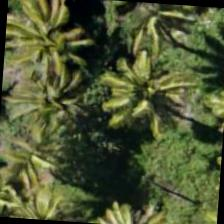Kelapa_Sawit: (99, 50, 195, 146), (0, 54, 92, 151), (2, 0, 98, 83), (0, 110, 75, 206), (111, 0, 205, 60)
